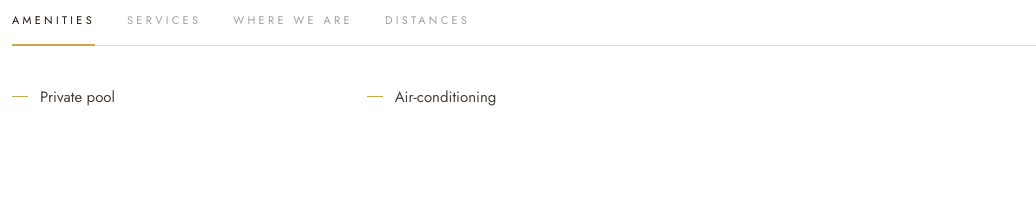
Test: ListingTabs keyboard contract › keeps the panel wired to the selected tab
The image size is (1036, 204).
Check: the list item "Private pool" is shown, box [40, 86, 115, 108]
Click the tab "Where We Are" at [293, 28], box [233, 12, 353, 44]
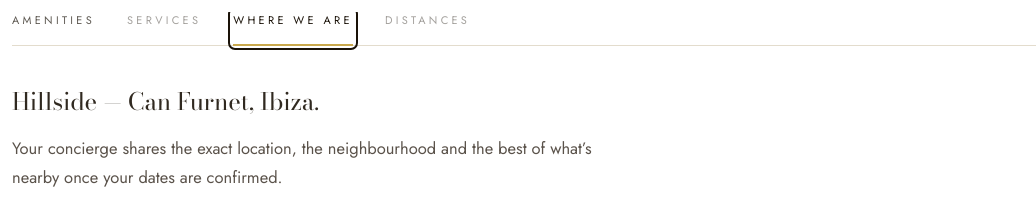
Check: the text "Hillside — Can Furnet, Ibiza." is shown, box [12, 82, 319, 120]
Check: the list item "Private pool" is gone
